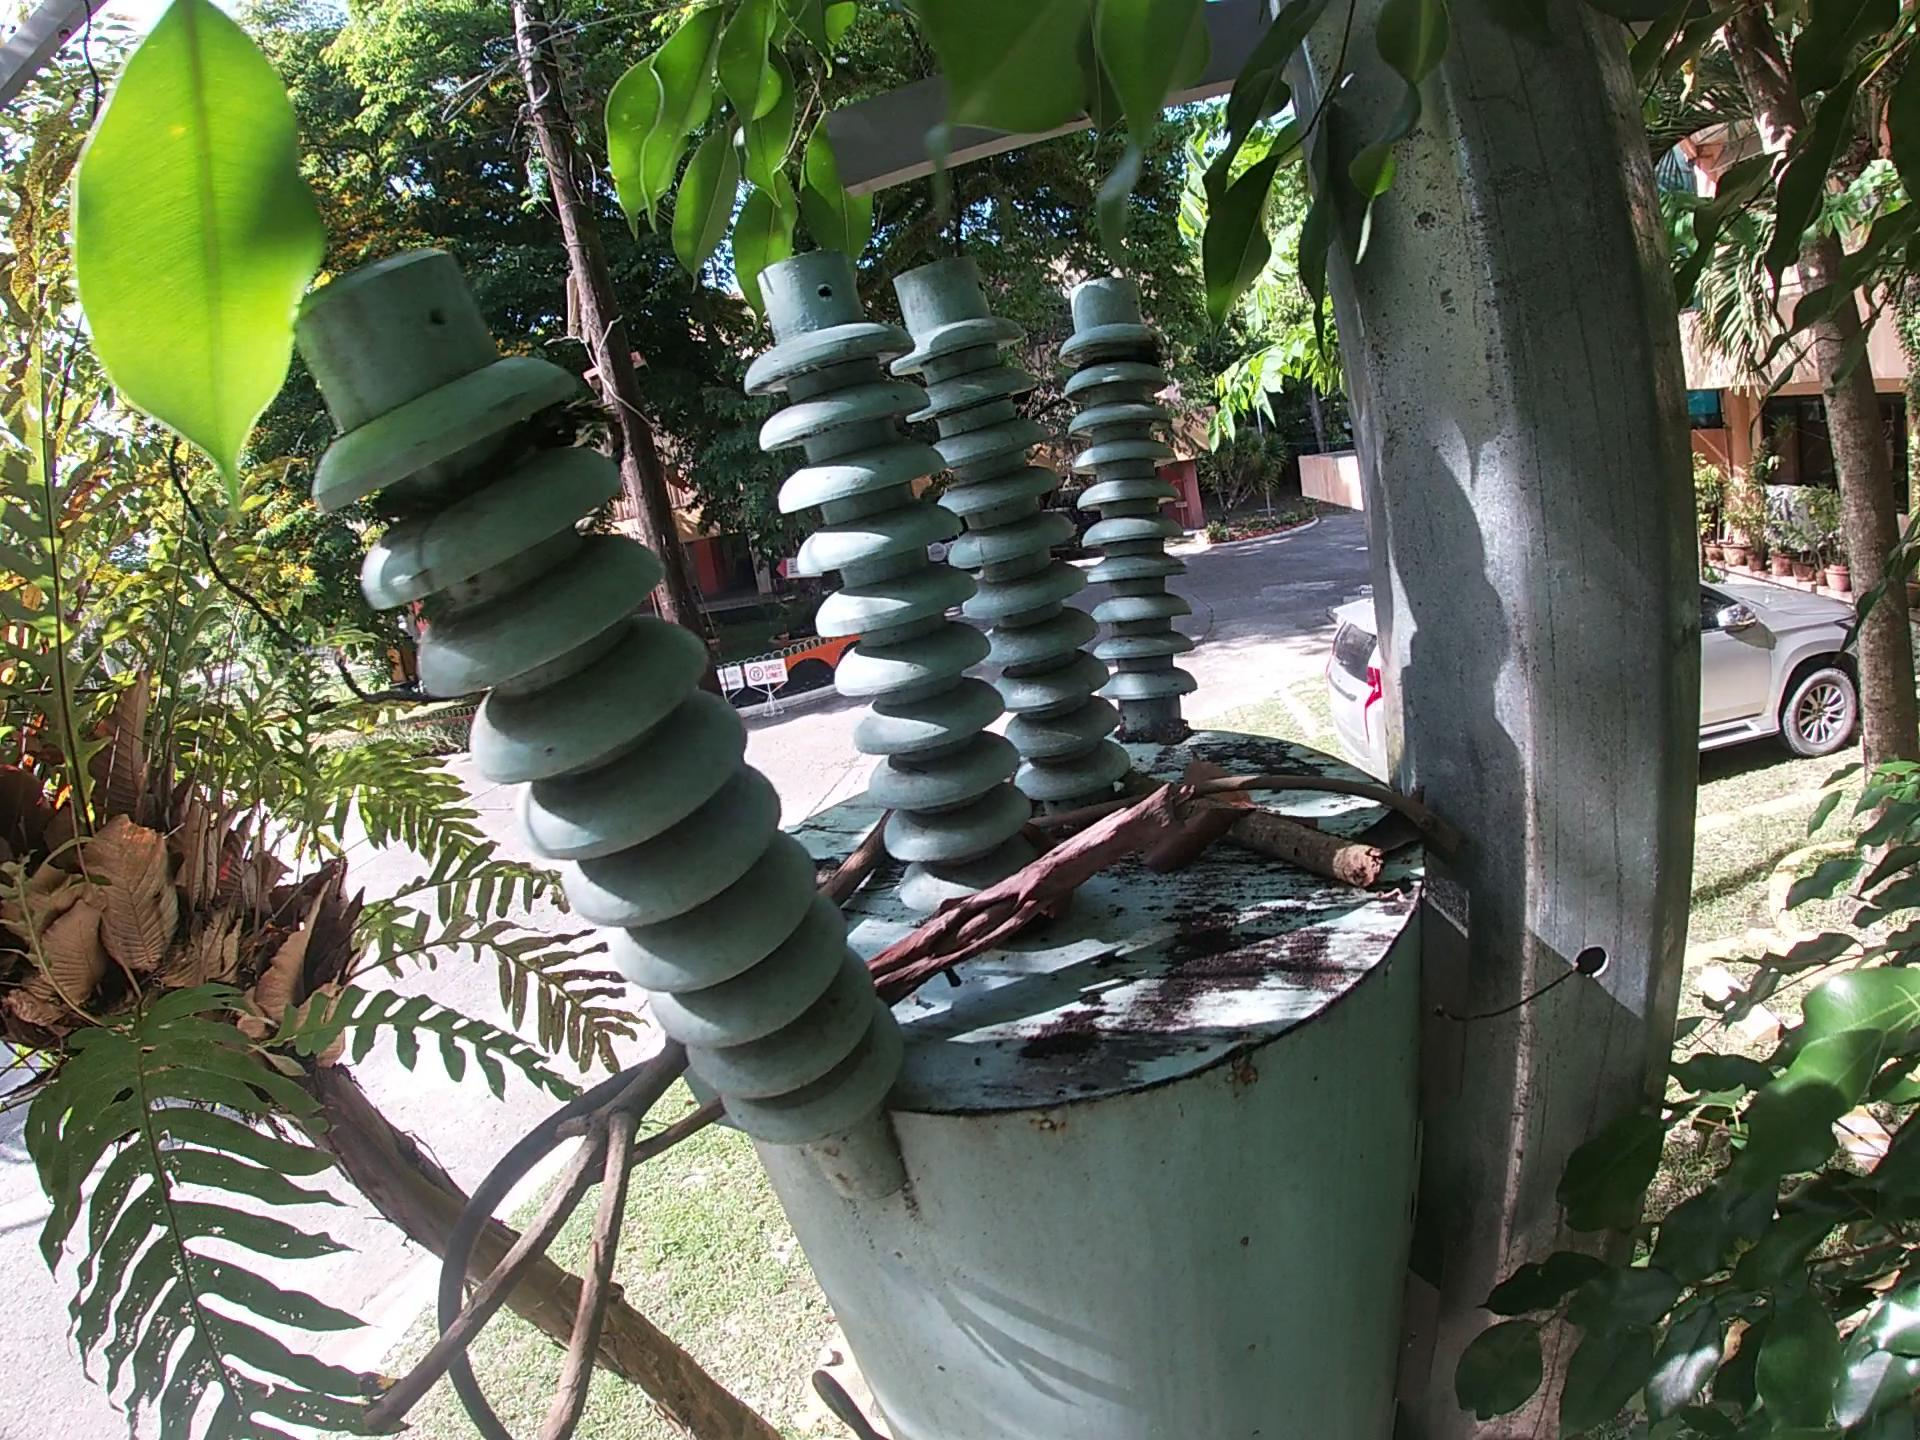leaf: (1147, 799, 1249, 874), (1349, 777, 1429, 861), (1178, 746, 1255, 808)
tree branch: (348, 1030, 697, 1438), (856, 776, 1197, 1001), (1017, 767, 1468, 870), (1120, 767, 1395, 888), (810, 811, 895, 914)
